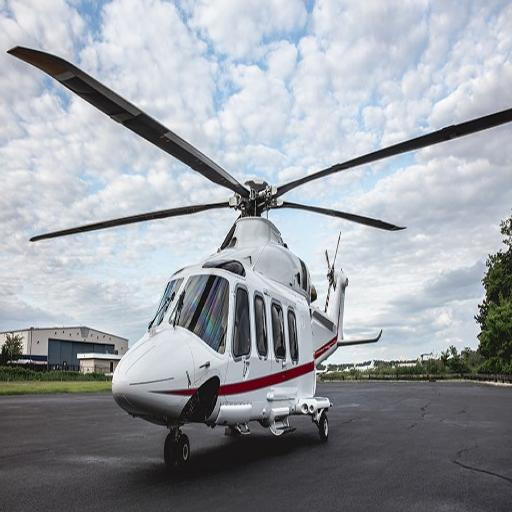helicopter: (9, 48, 512, 451)
